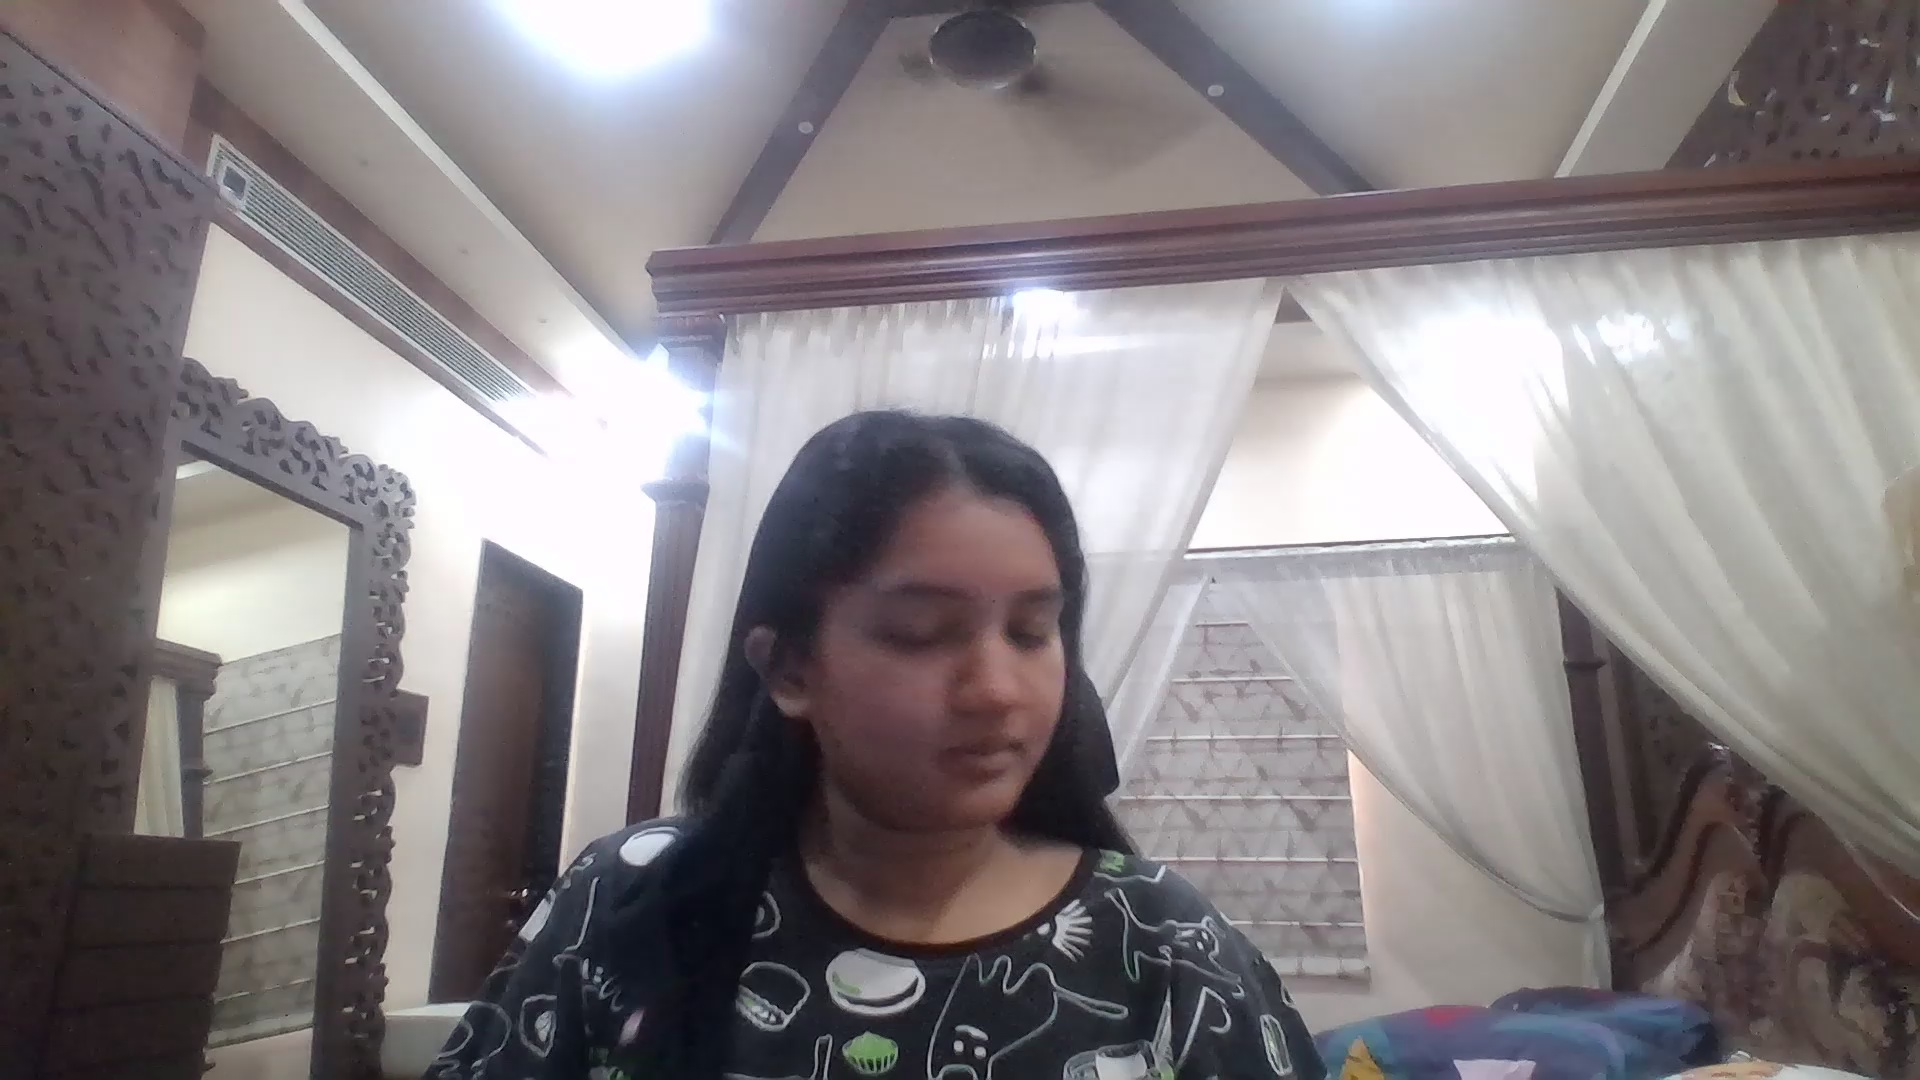No Mask: (809, 655, 1087, 831)
